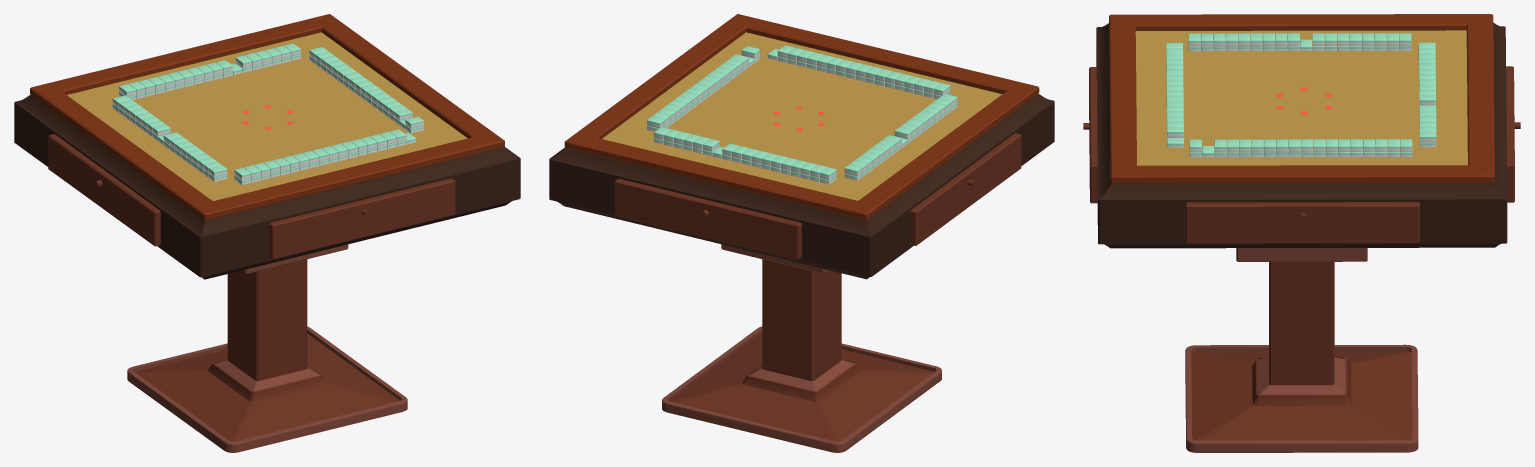
The model's file is zhuozi.fbx.
The picture shows the model from 3 angles, left to right: view 1: azimuth 30°, elevation 25°; view 2: azimuth 150°, elevation 25°; view 3: azimuth 270°, elevation 25°; orthographic projection. The views are drawn at different scales.
Visible parts, largest first — view 1: polySurface458; view 2: polySurface458; view 3: polySurface458.
Part boxes in pixels (<box>): polySurface458: <box>14,14,520,452</box>; polySurface458: <box>549,14,1054,452</box>; polySurface458: <box>1083,14,1520,452</box>.
Bounding box in the file's own units: 5.38 × 4.26 × 5.38.
